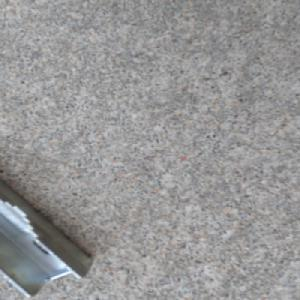ClampPart: (0, 178, 94, 297)
